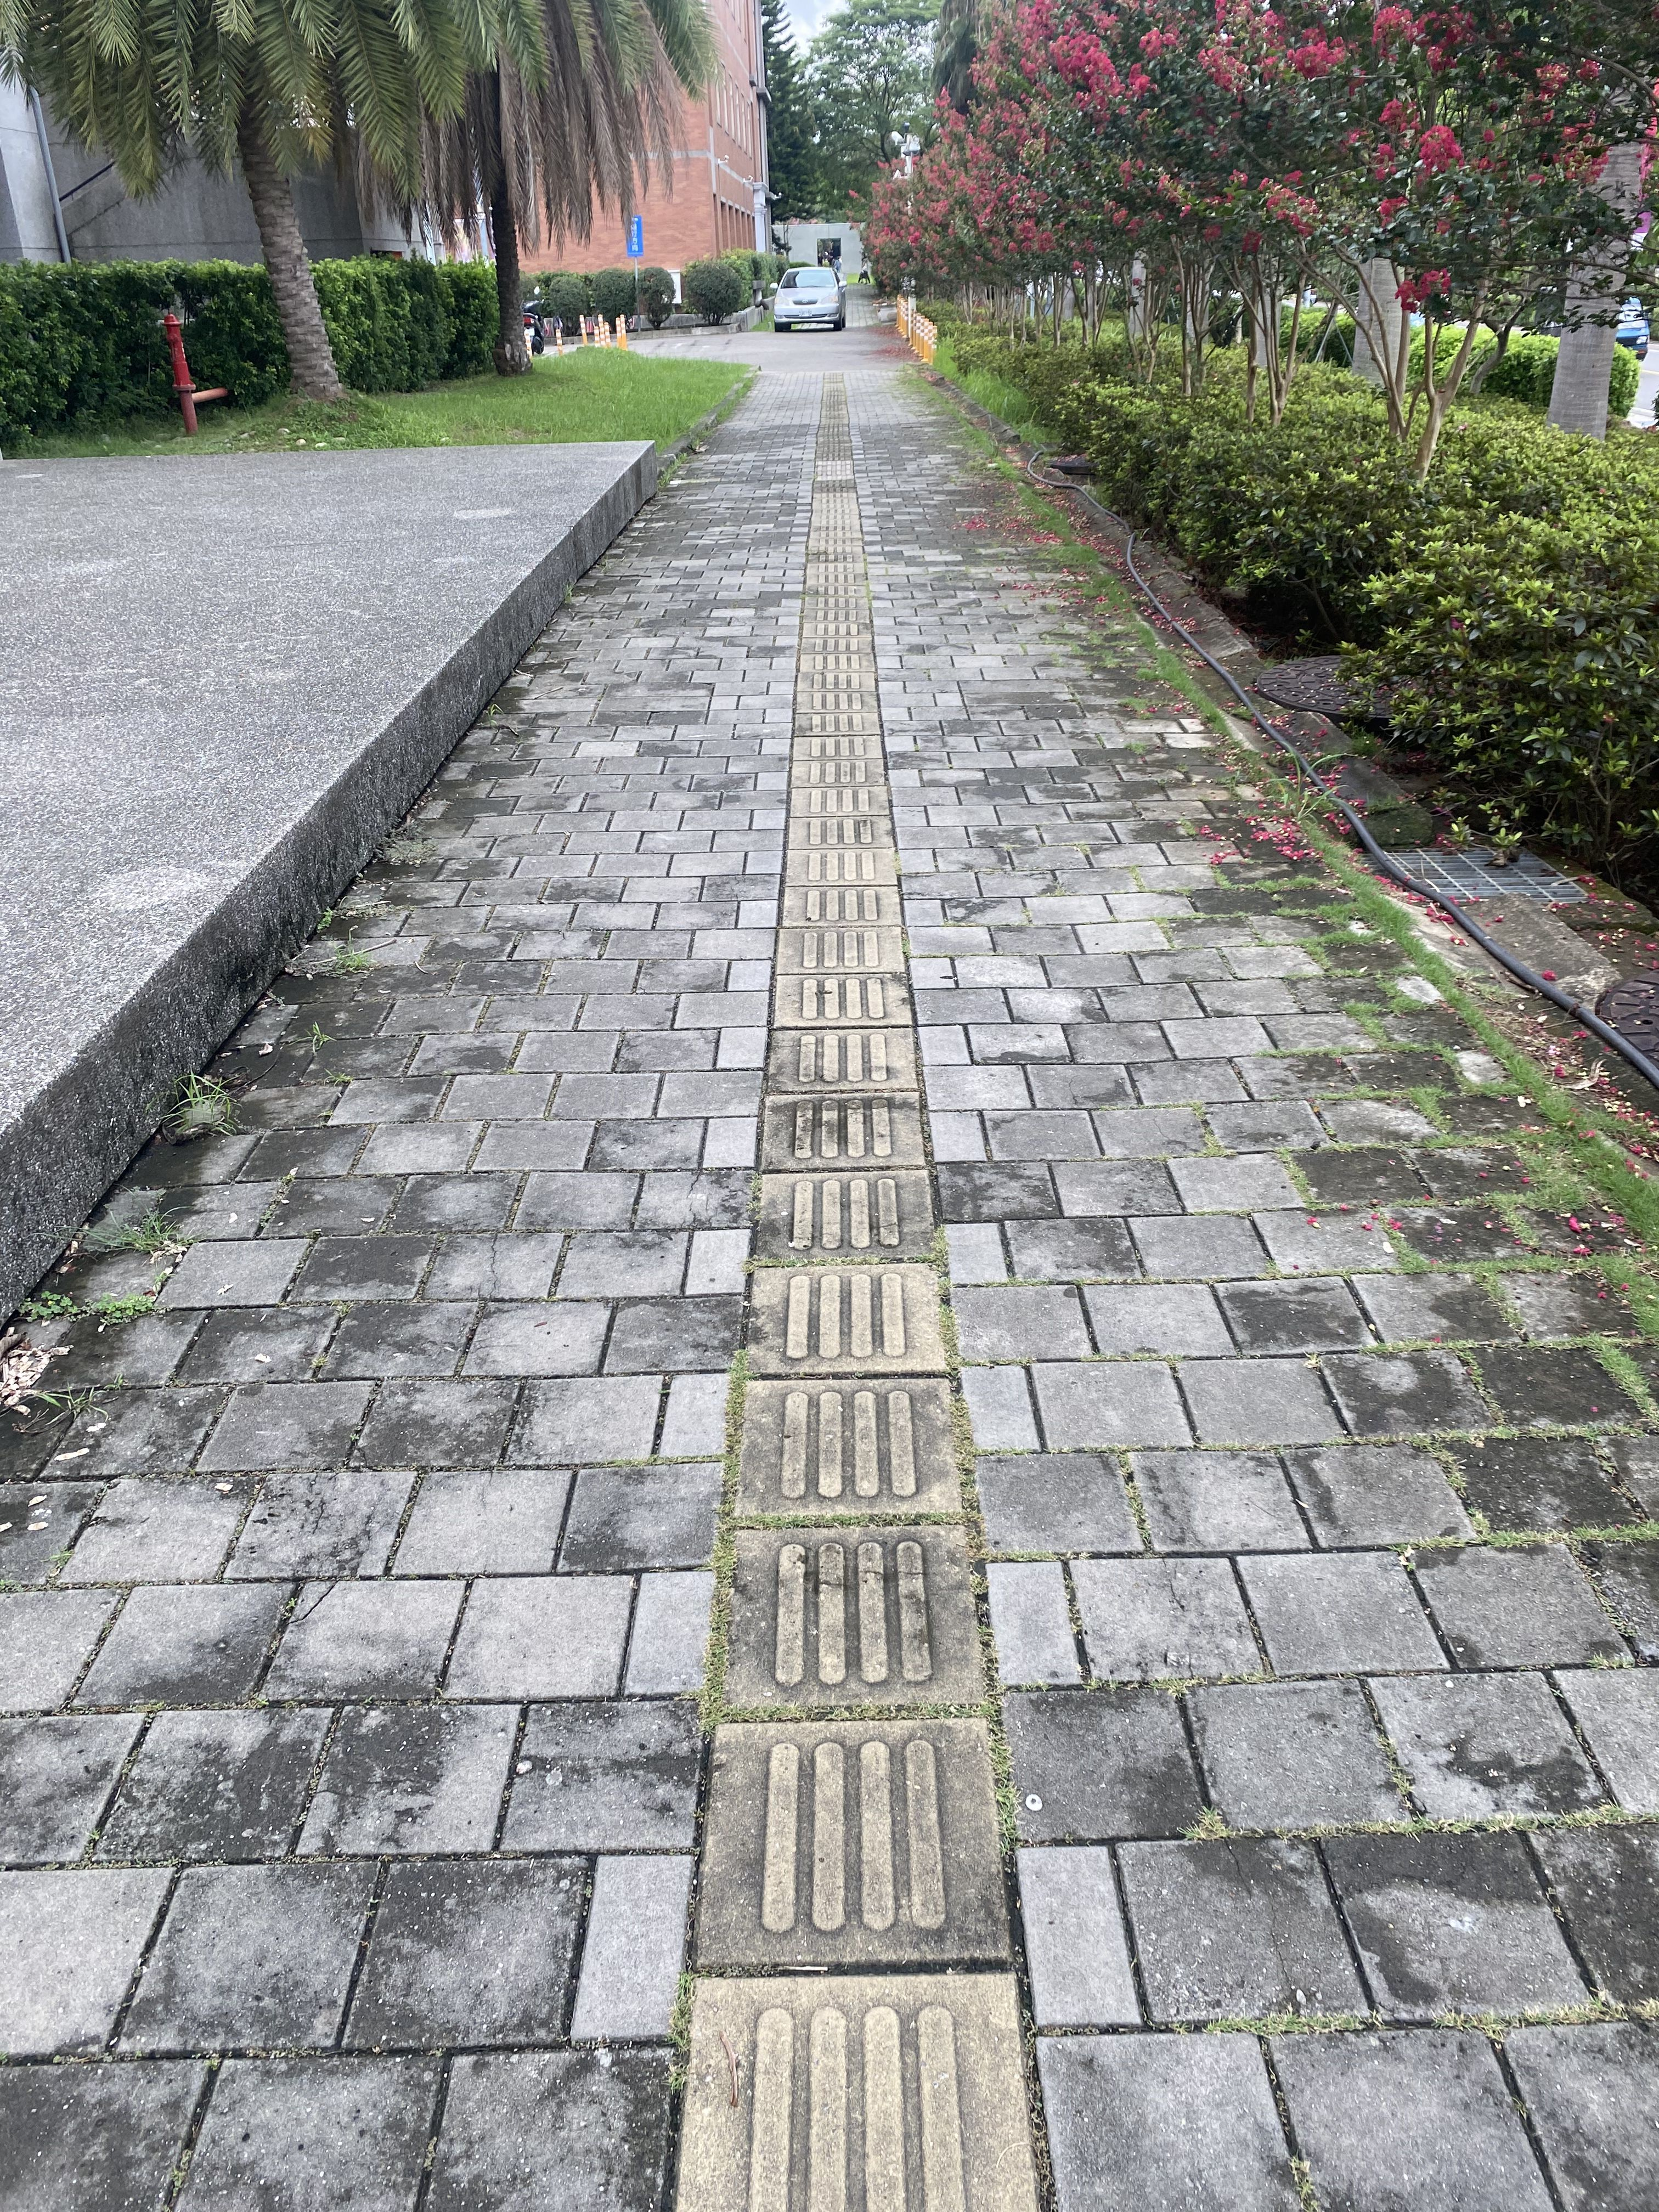0: (3, 617, 1659, 2212)
sidewalk: (551, 350, 1168, 1541)
